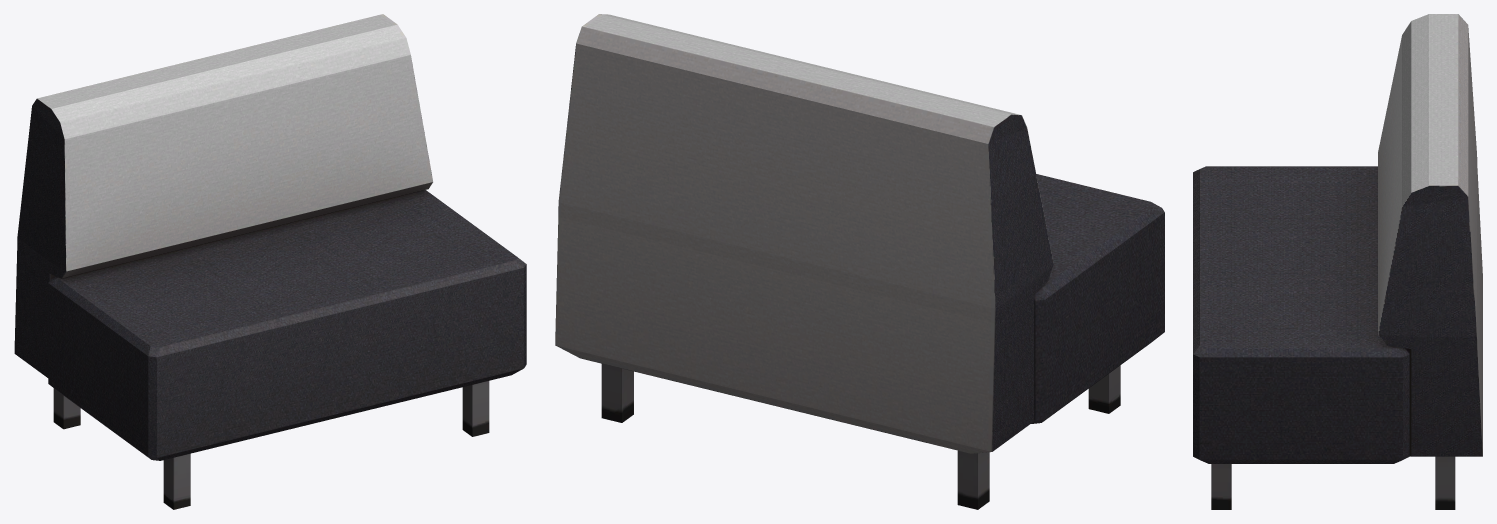
The model's file is SM_Lounge_Sofa.FBX.
The picture shows the model from 3 angles, left to right: view 1: azimuth 30°, elevation 25°; view 2: azimuth 150°, elevation 25°; view 3: azimuth 270°, elevation 25°; orthographic projection. The views are drawn at different scales.
Parts seen in each view (by area): view 1: SM_Lounge_Sofa; view 2: SM_Lounge_Sofa; view 3: SM_Lounge_Sofa.
Part boxes in pixels (left/top/right/bottom): SM_Lounge_Sofa: left=14, top=14, right=526, bottom=509; SM_Lounge_Sofa: left=555, top=14, right=1164, bottom=509; SM_Lounge_Sofa: left=1193, top=14, right=1482, bottom=509.
Size of the model in its own units: 133 by 86.56 by 109.
